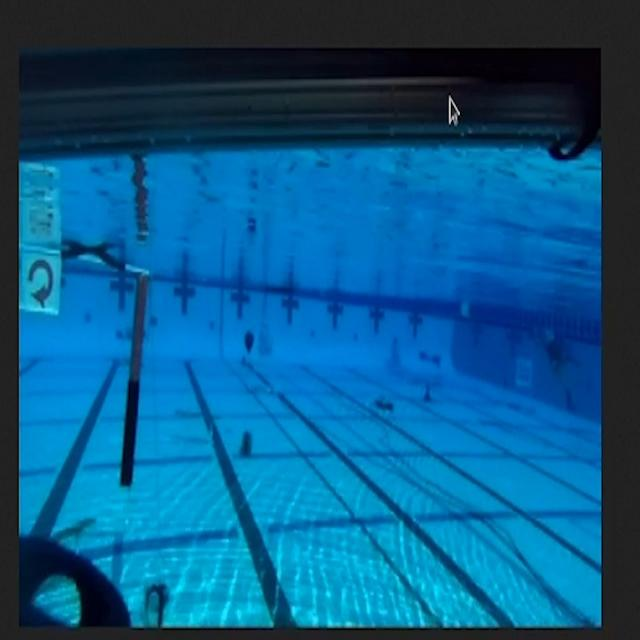Gate: (18, 231, 165, 498)
